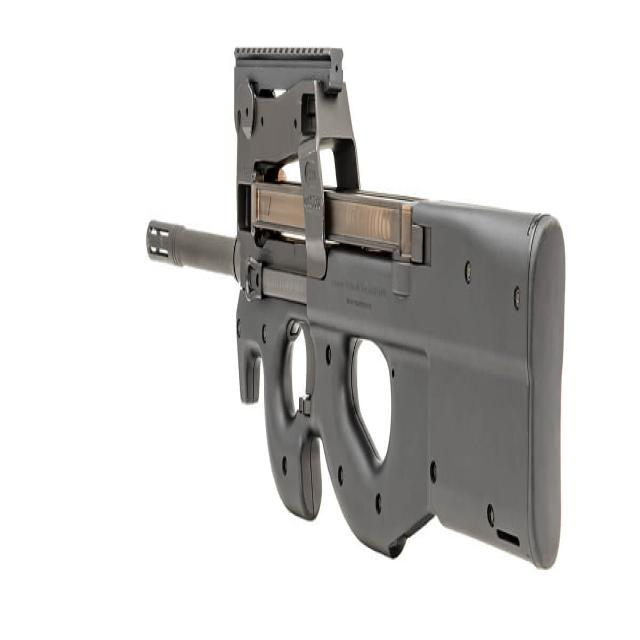SMG: (150, 47, 567, 571)
